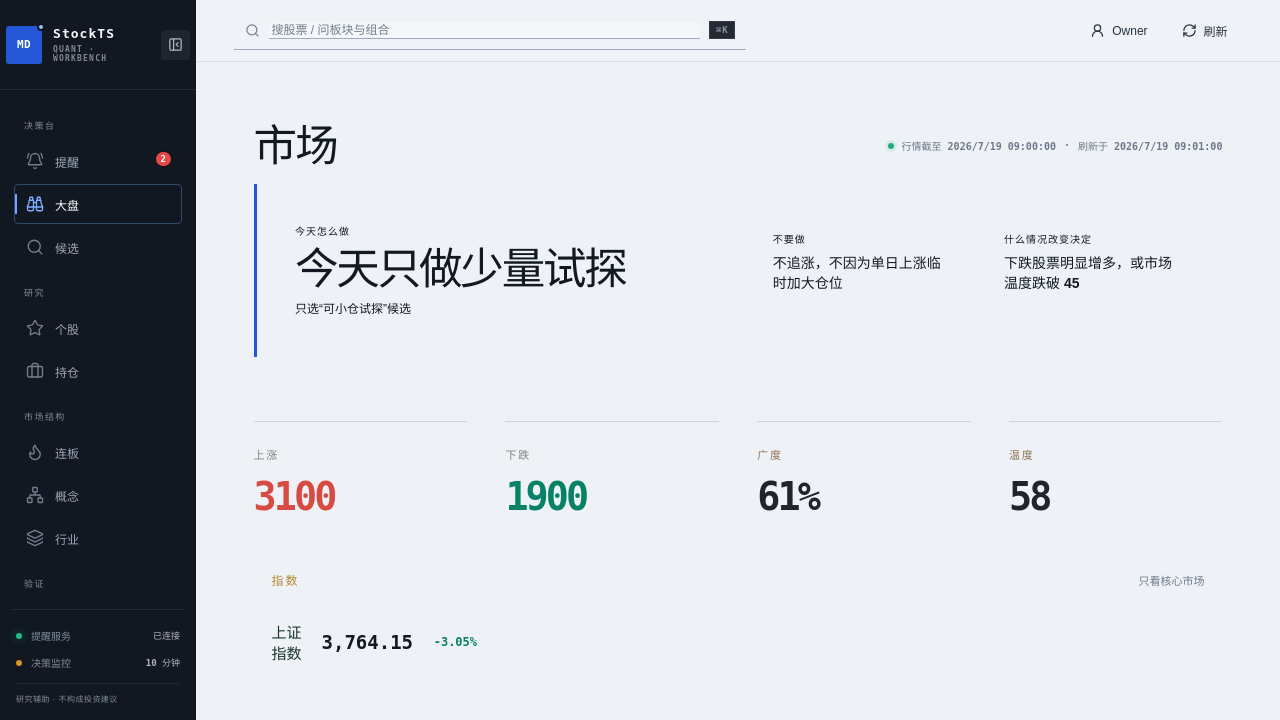
Test: restores a valid session and removes the shell on logout
Expected: the heading "市场" is shown, [254,125,337,168]
Expected: the element named "大盘速览" is shown, [254,421,1222,681]
Click the heading "Owner" at (1119, 30), box [1090,23,1148,38]
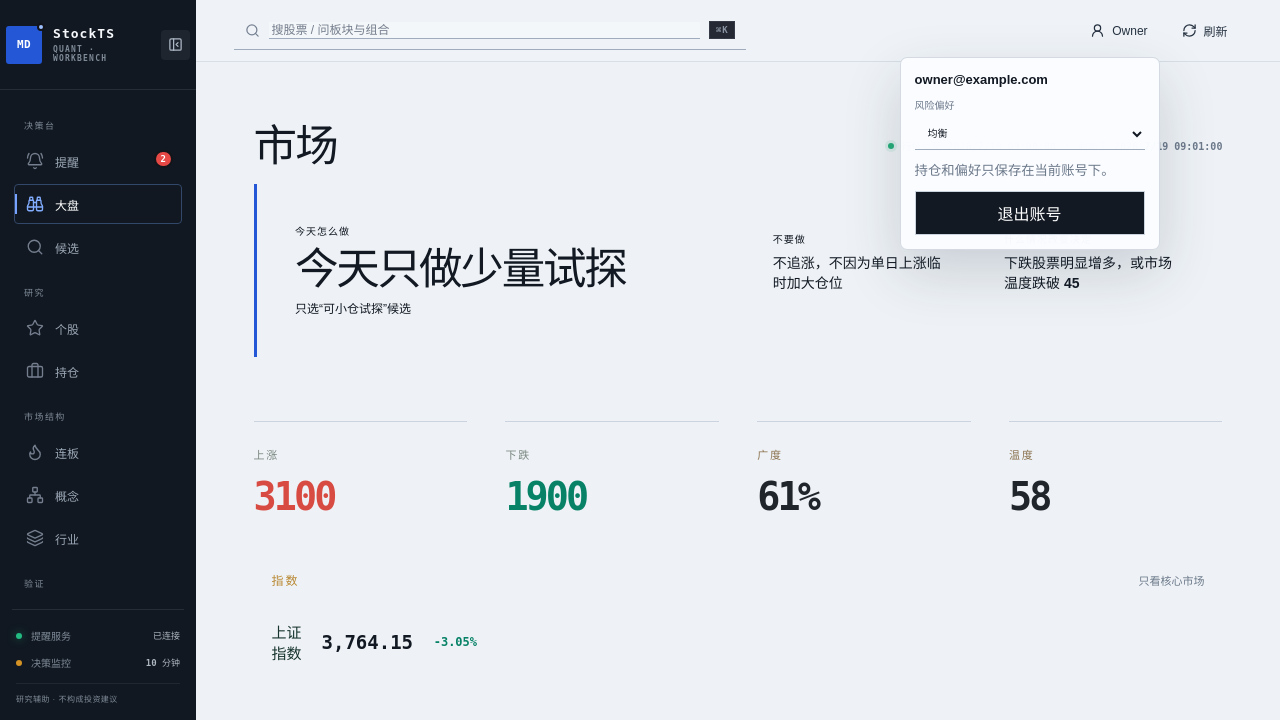
Press Escape
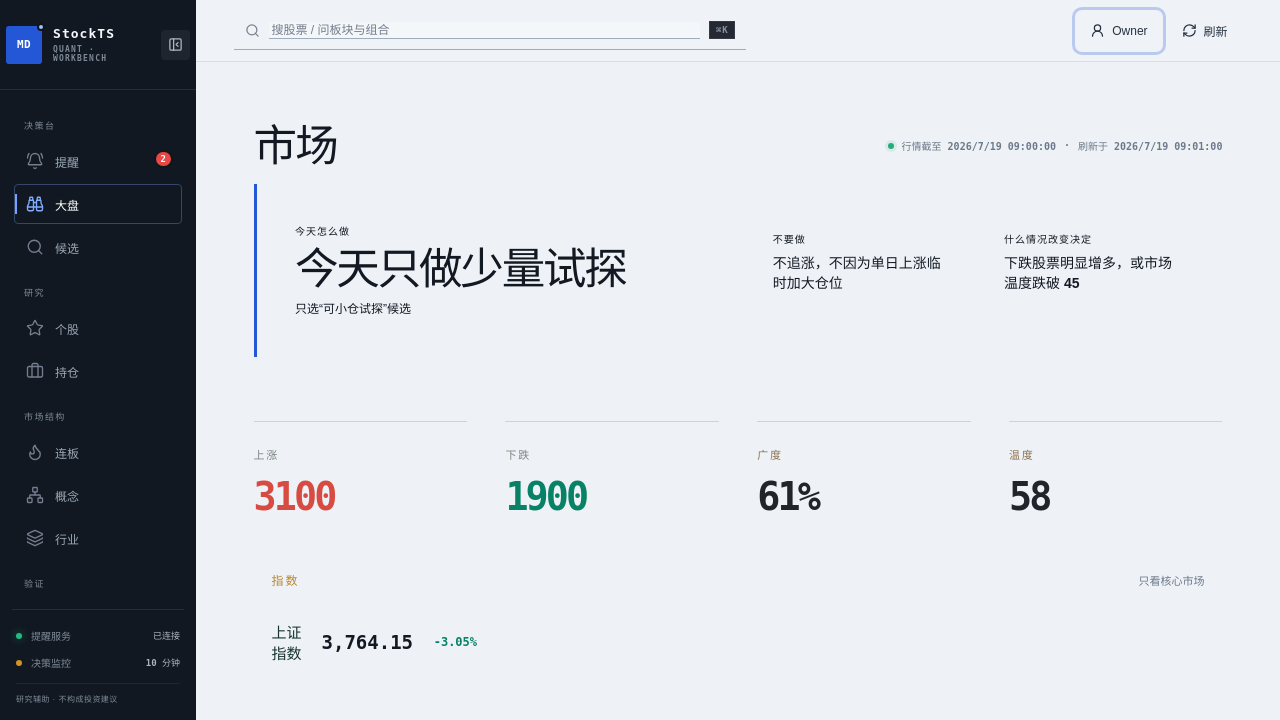
Click the heading "Owner" at (1119, 30), box [1090,23,1148,38]
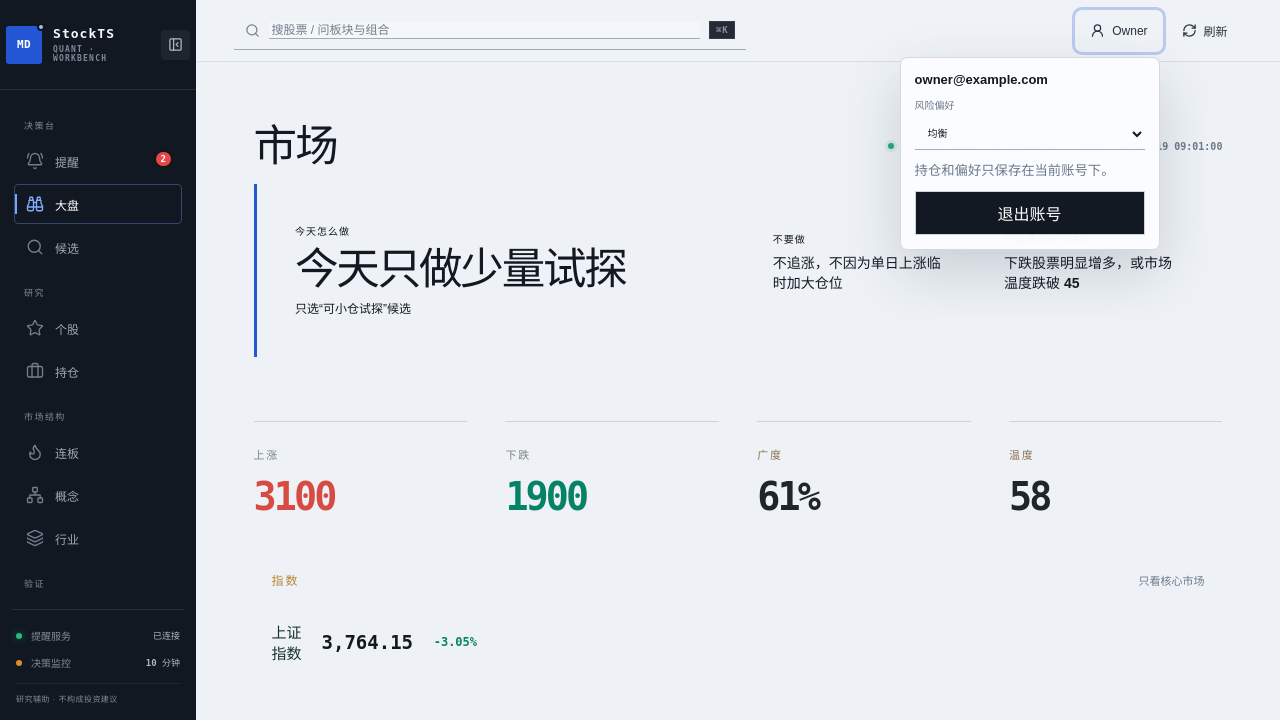
Click the button "退出账号" at (1030, 213), box [915,191,1145,235]
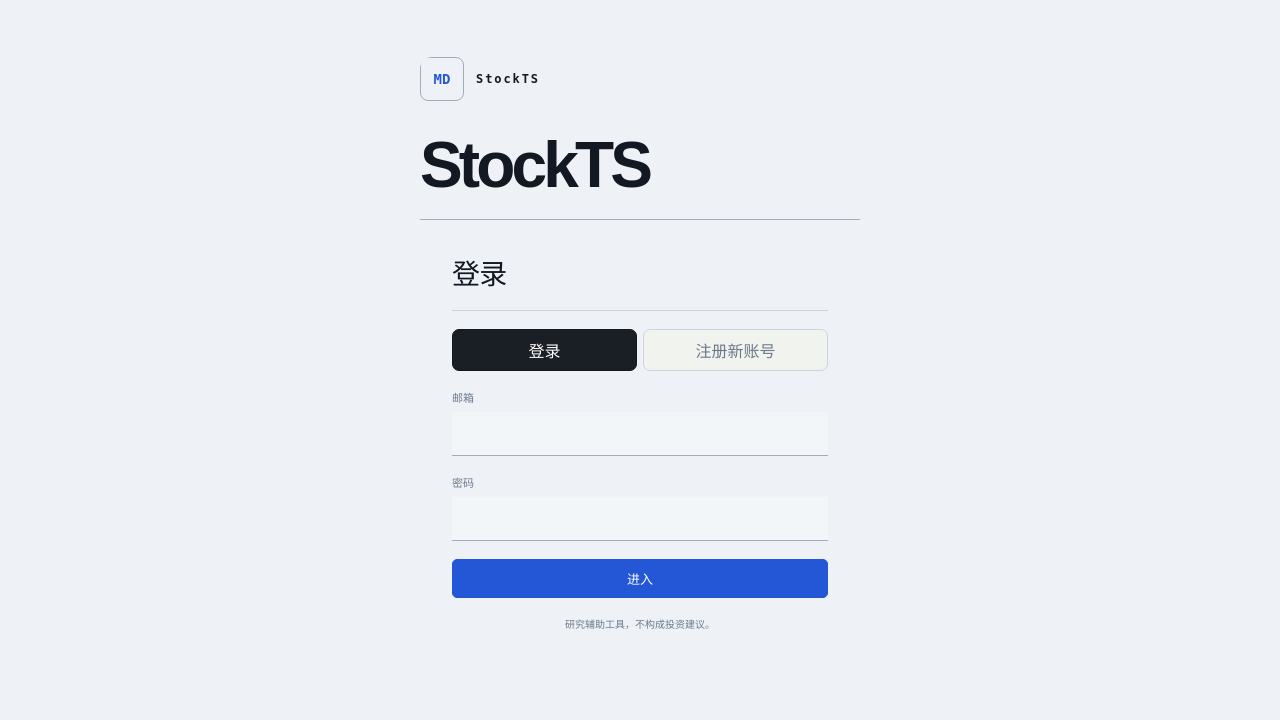
Now the heading "StockTS" is shown, box [420,129,649,201]
Now the navigation bar "主导航" is gone
